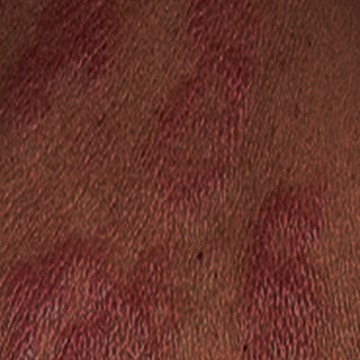Leprosy: (0, 232, 207, 359), (141, 1, 260, 198), (239, 178, 334, 316)
